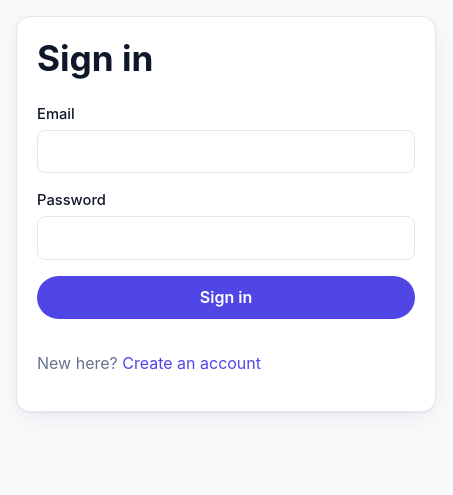
authentication flow › shows the server error on bad credentials
This screenshot has width=453, height=495.
Step 1. Type "a@b.dev" into the field labelled "Email" → [226, 152], box [37, 130, 415, 173]
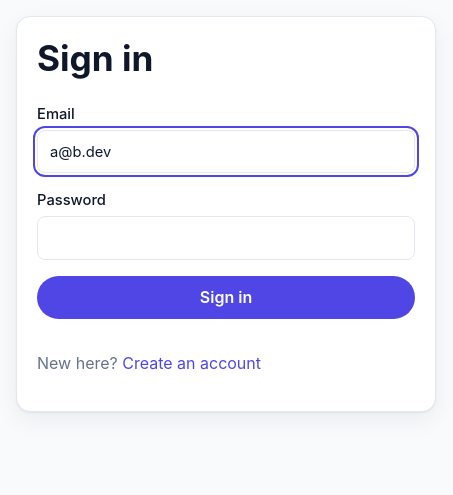
Step 2. Type "nope" into the password field labelled "Password" → [226, 238], box [37, 216, 415, 260]
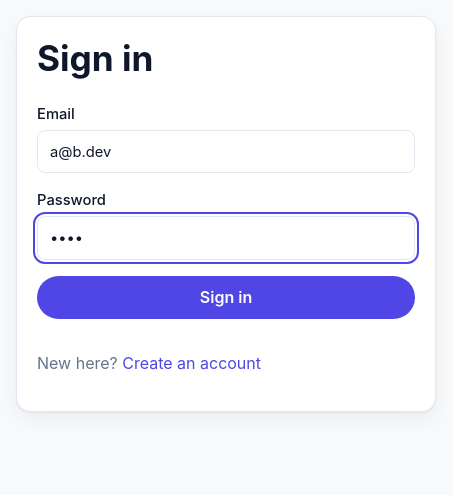
Step 3. Click the button "Sign in" → [226, 297], box [37, 276, 415, 319]
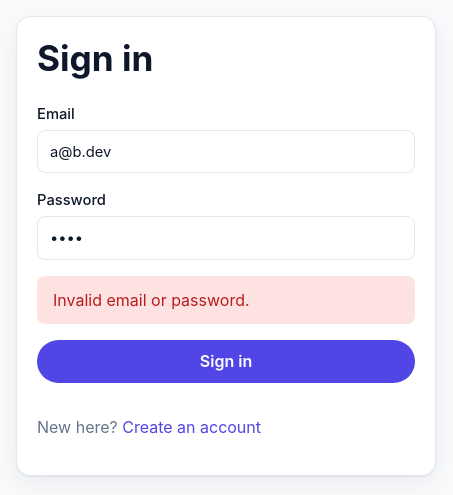
Expected: the message reads "Invalid email or password.", [53, 290, 250, 310]
